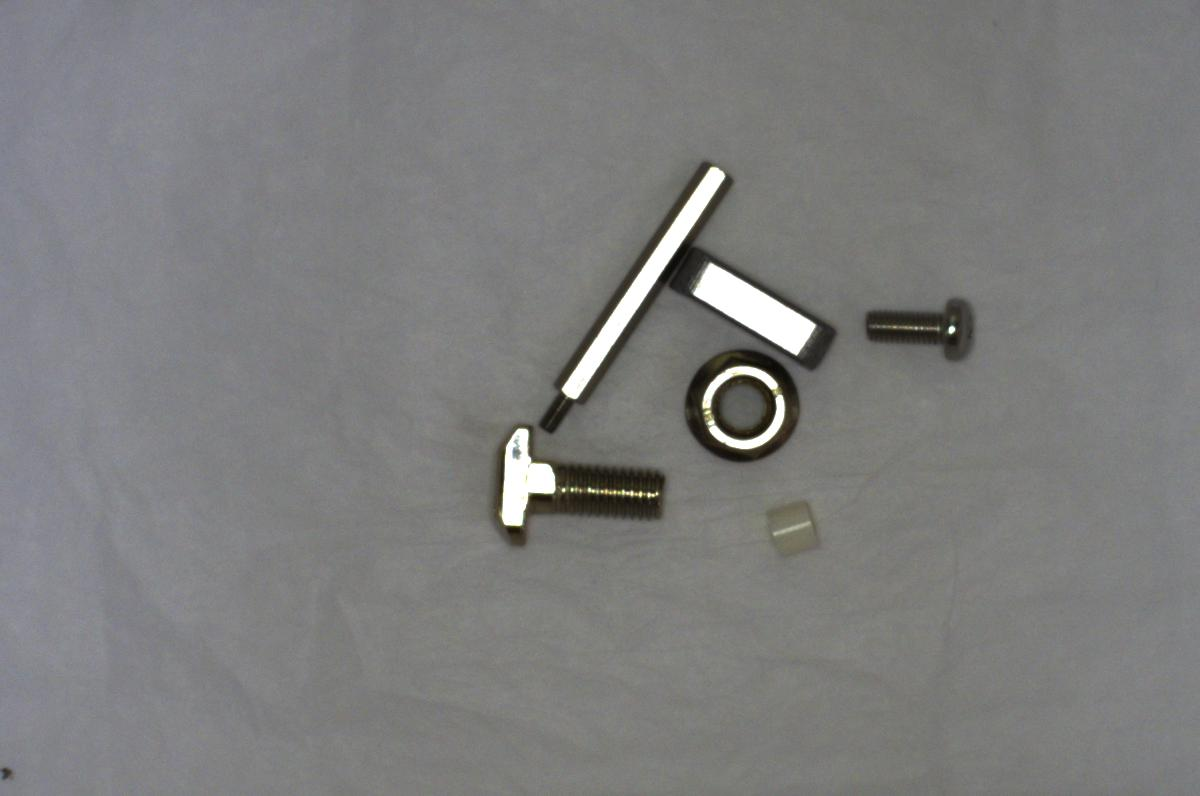Flange nut: (670, 348, 811, 464)
Hexagonal steel column: (519, 146, 742, 433)
Keybar: (661, 248, 839, 372)
Plastic cushion pillar: (761, 487, 824, 572)
Round head screw: (860, 282, 984, 371)
T-shaped screw: (478, 414, 682, 553)
